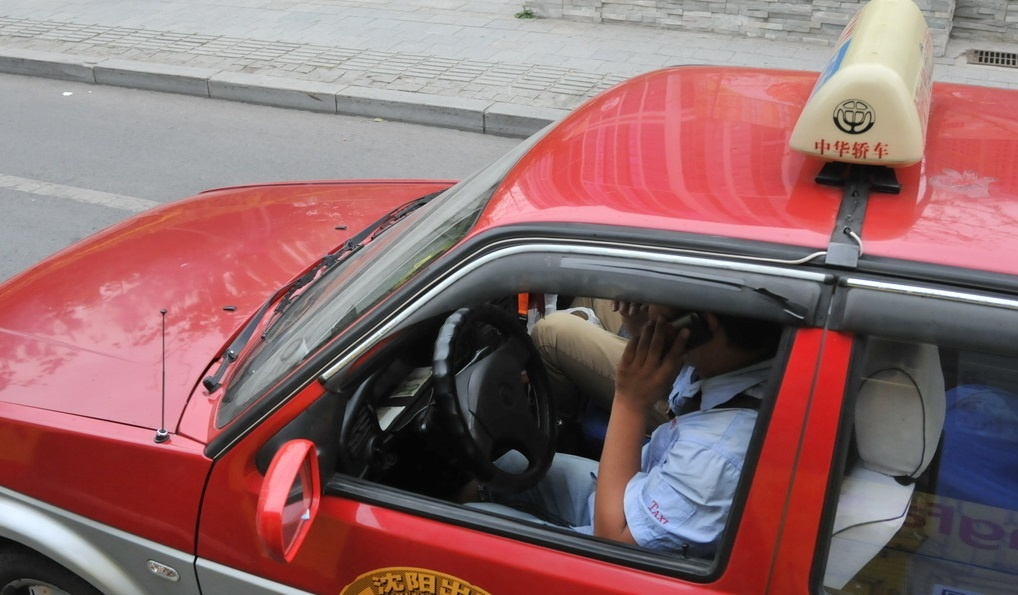taxi: (23, 61, 987, 593)
